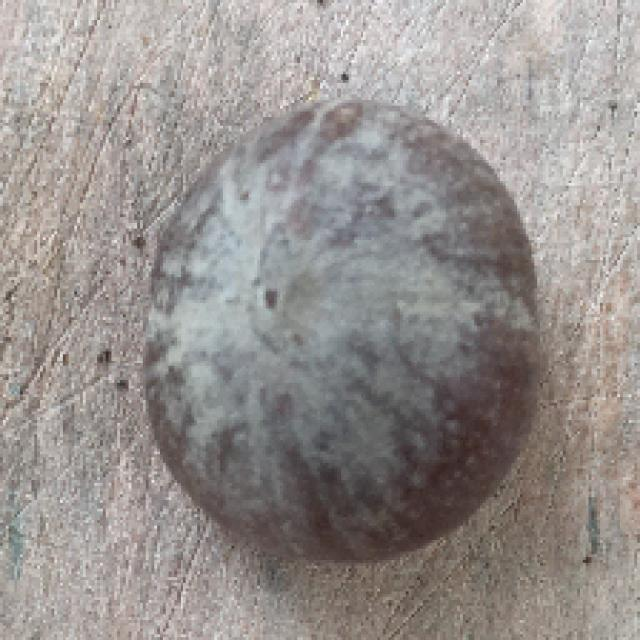DamagedHazelnut: (139, 94, 543, 560)
